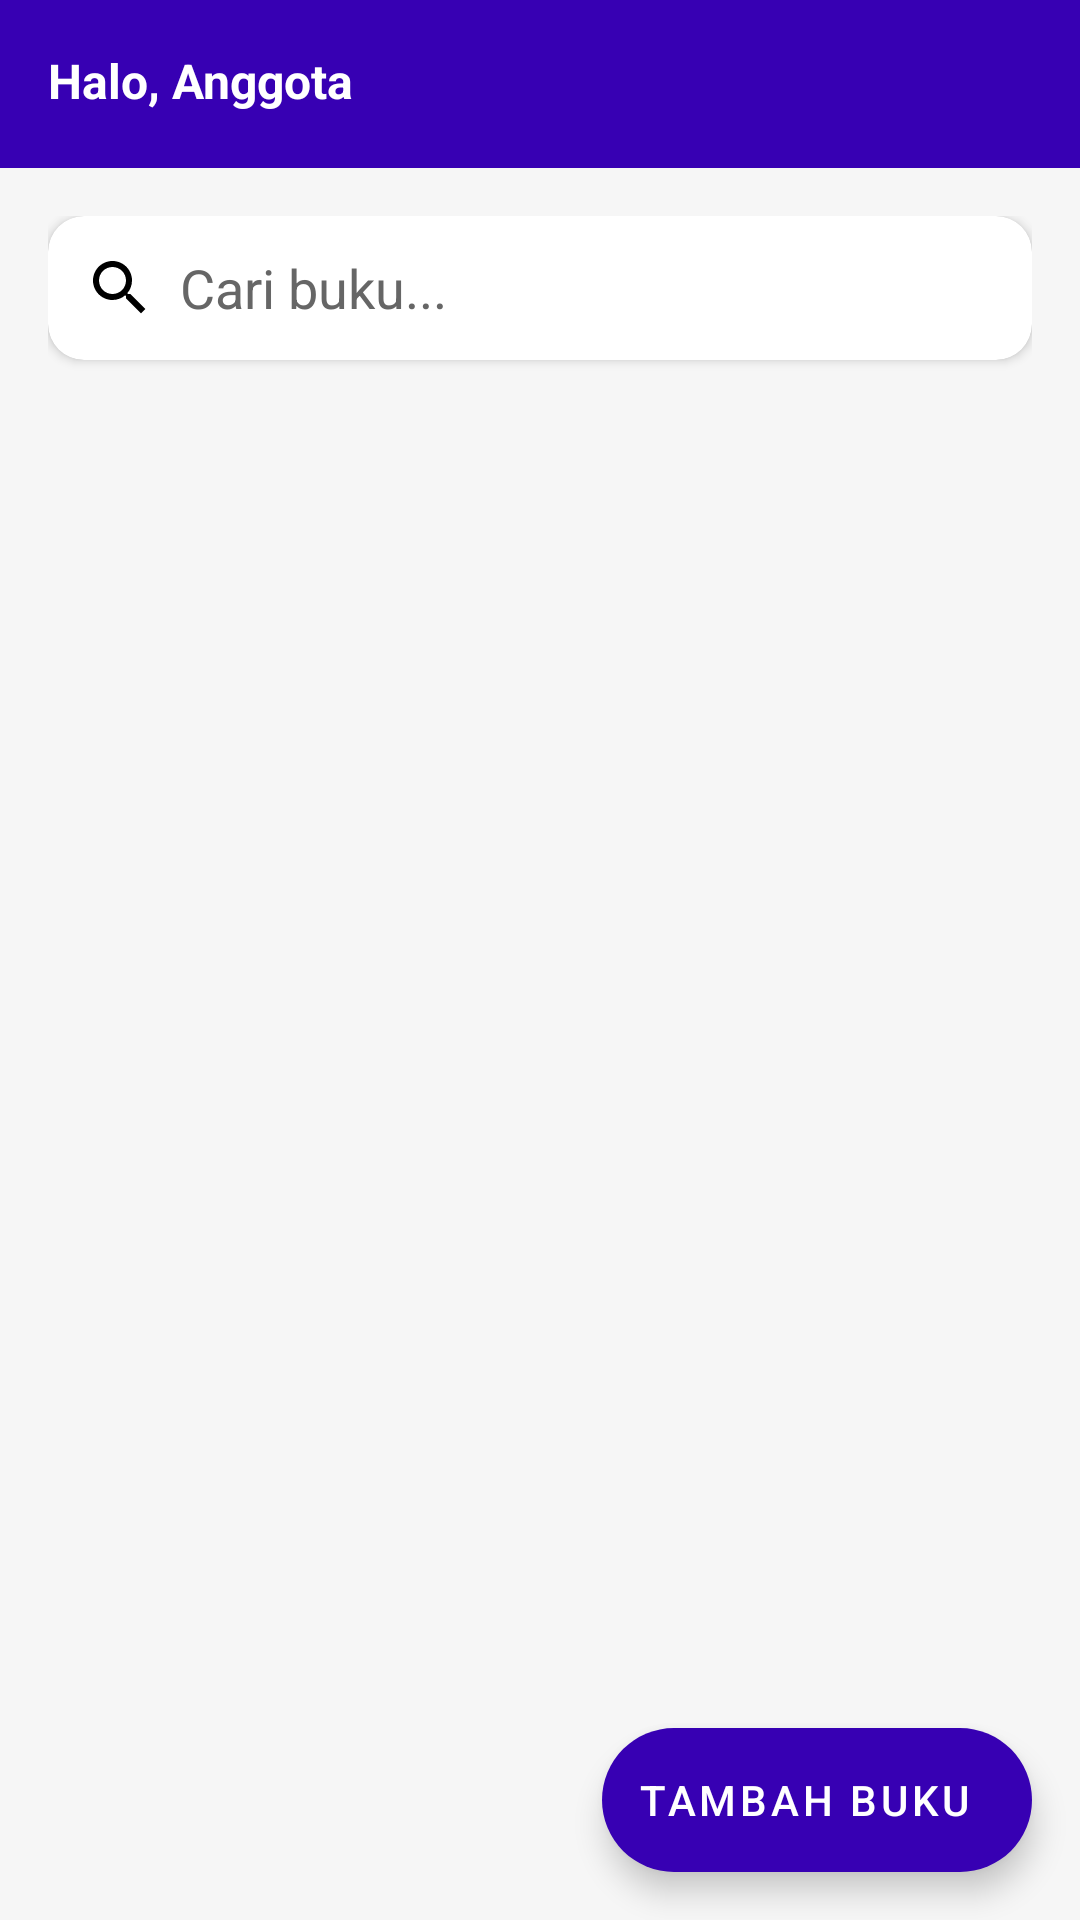

Screen size 1080 x 1920. Icon name, then its center in pixels as point (x, y):
search: point (119, 287)
